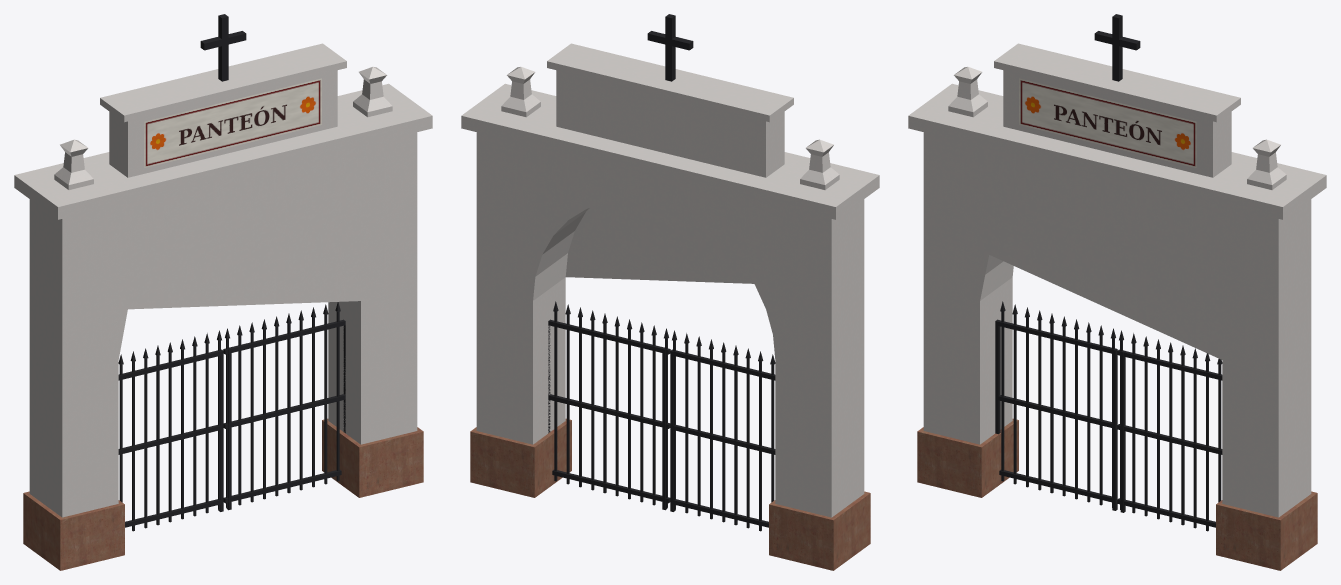
Rendered from entrada_panteon.gltf.
3 renders of one model, left to right at view 1: azimuth 30°, elevation 25°; view 2: azimuth 150°, elevation 25°; view 3: azimuth 330°, elevation 25°, orthographic.
Visible parts, largest first — view 1: entrada_panteon, reja_derecha, reja_izquierda; view 2: entrada_panteon, reja_derecha, reja_izquierda; view 3: entrada_panteon, reja_izquierda, reja_derecha.
Boxes of the visible parts, x1,y1,x2,y2 form: entrada_panteon: (14,14,432,570); reja_derecha: (223,302,345,510); reja_izquierda: (118,330,223,531); entrada_panteon: (461,14,879,570); reja_derecha: (548,301,670,510); reja_izquierda: (670,330,775,531); entrada_panteon: (908,14,1326,570); reja_izquierda: (995,301,1117,510); reja_derecha: (1117,330,1222,531).
Bounding box in the file's own units: 4.64 × 5.88 × 0.94.
4 materials, 3 textured.
